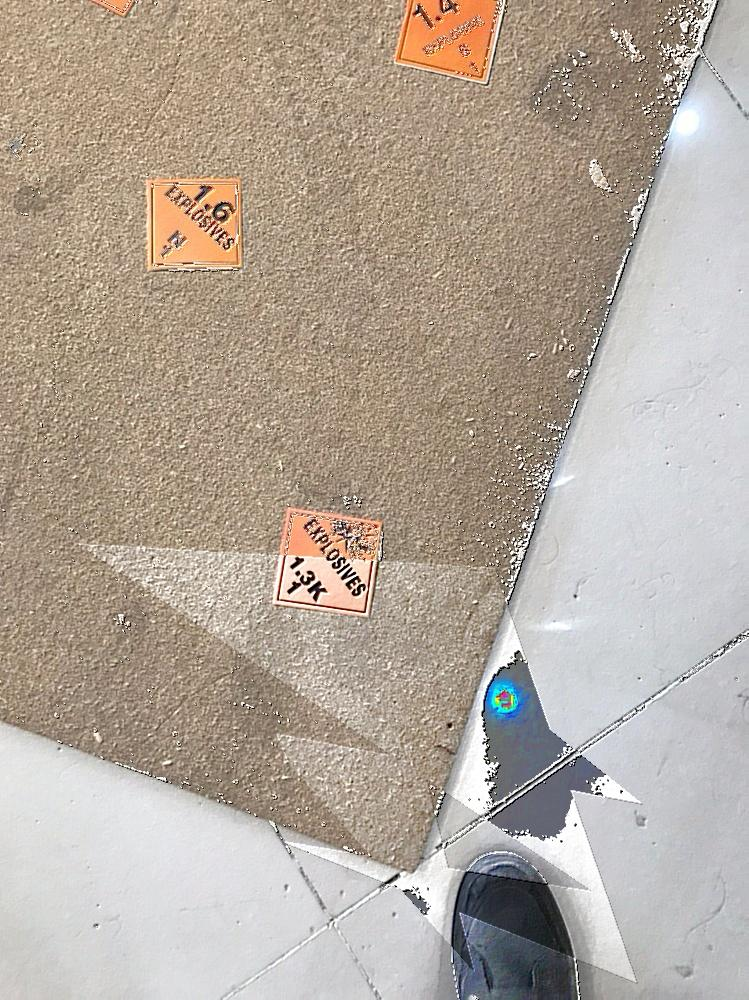explosive: (274, 510, 380, 616), (395, 1, 504, 94), (152, 179, 240, 268)
